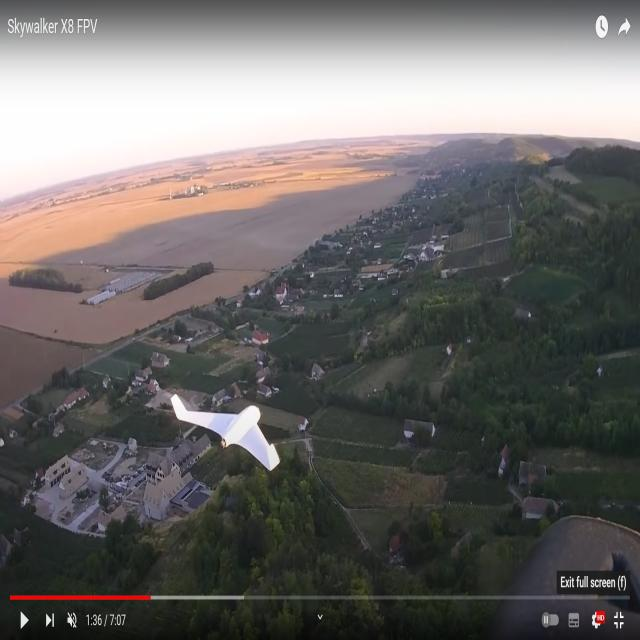iha: (206, 425, 248, 439)
